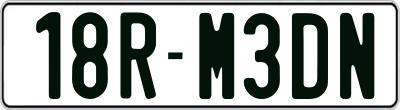1: (34, 9, 60, 102)
3: (244, 13, 283, 101)
8: (69, 10, 107, 97)
D: (290, 12, 328, 99)
M: (199, 10, 236, 97)
N: (339, 11, 373, 97)
R: (119, 12, 154, 101)
